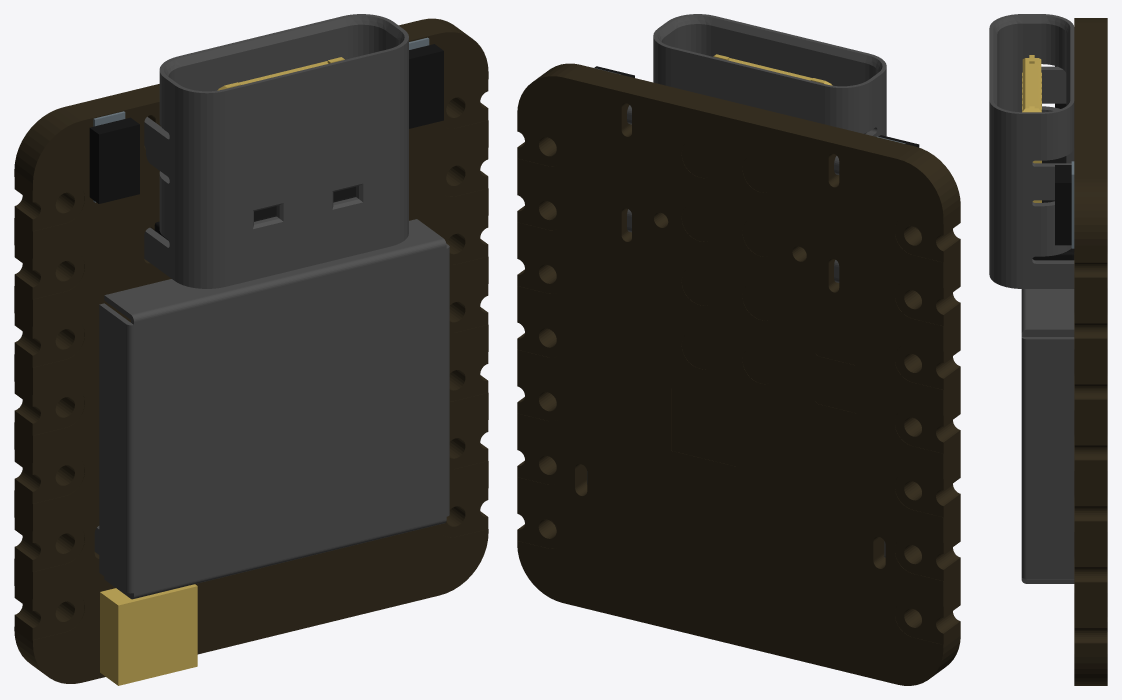
File: xiao.glb
The picture shows the model from 3 angles, left to right: view 1: azimuth 30°, elevation 25°; view 2: azimuth 150°, elevation 25°; view 3: azimuth 270°, elevation 25°; orthographic projection. The views are drawn at different scales.
Visible parts, largest first — view 1: xiao-17, xiao-18, xiao-15, xiao-13, xiao-9, xiao-11; view 2: xiao-18, xiao-15; view 3: xiao-18, xiao-15, xiao-17, xiao-11, xiao-14, xiao-16, xiao-12.
Part boxes in pixels (left/top/right/bottom): xiao-17: left=94, top=219, right=449, bottom=599; xiao-18: left=14, top=18, right=488, bottom=683; xiao-15: left=144, top=14, right=408, bottom=288; xiao-13: left=100, top=584, right=197, bottom=685; xiao-9: left=89, top=117, right=139, bottom=203; xiao-11: left=409, top=44, right=443, bottom=128; xiao-18: left=517, top=63, right=960, bottom=685; xiao-15: left=627, top=14, right=886, bottom=282; xiao-18: left=1074, top=18, right=1107, bottom=685; xiao-15: left=989, top=14, right=1074, bottom=288; xiao-17: left=1021, top=289, right=1074, bottom=583; xiao-11: left=1055, top=165, right=1071, bottom=245; xiao-14: left=1022, top=55, right=1041, bottom=202; xiao-16: left=1032, top=156, right=1074, bottom=260; xiao-12: left=1071, top=161, right=1074, bottom=248.
Bounding box in the file's own units: 17.78 × 22.48 × 4.46.
